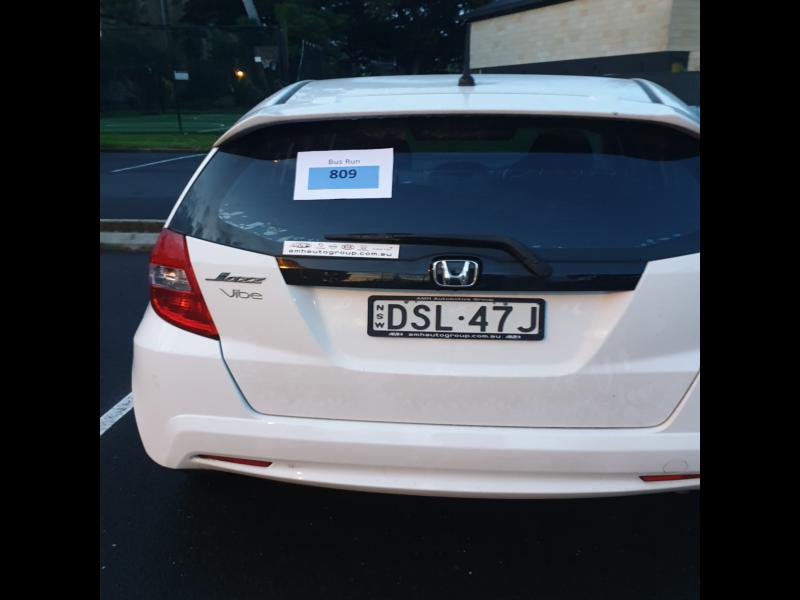BusRun: (307, 165, 380, 190)
PlateNo: (374, 297, 541, 336)
